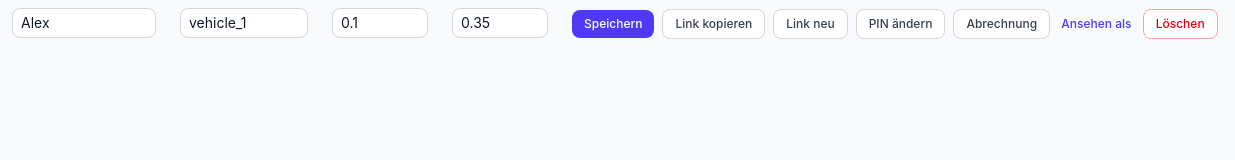
Test: AdminFriendRow › sets a chosen PIN via the PIN form
Click the button "PIN ändern". click: (901, 24)
box: [856,9,946,39]
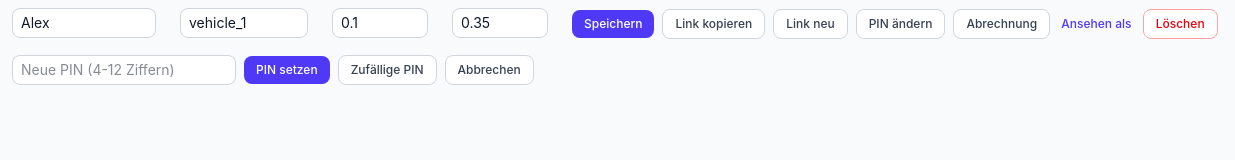
Type "4711" into the field named "Neue PIN". click: (124, 70)
box: [12,55,236,85]
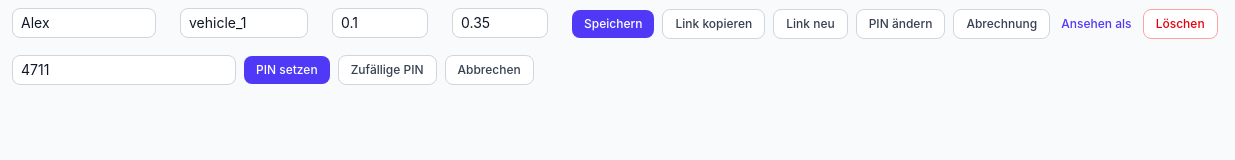
Submit the form, box [12,55,534,85]
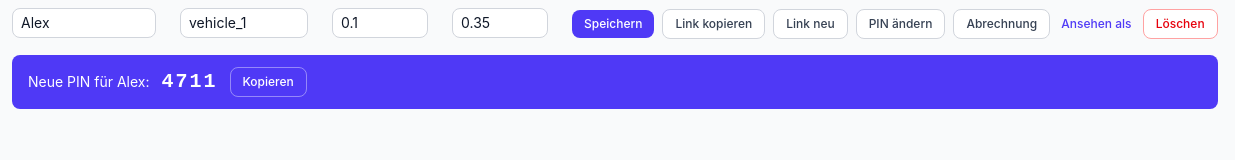
expect the text "4711" is shown: met, box [162,68,218,96]
